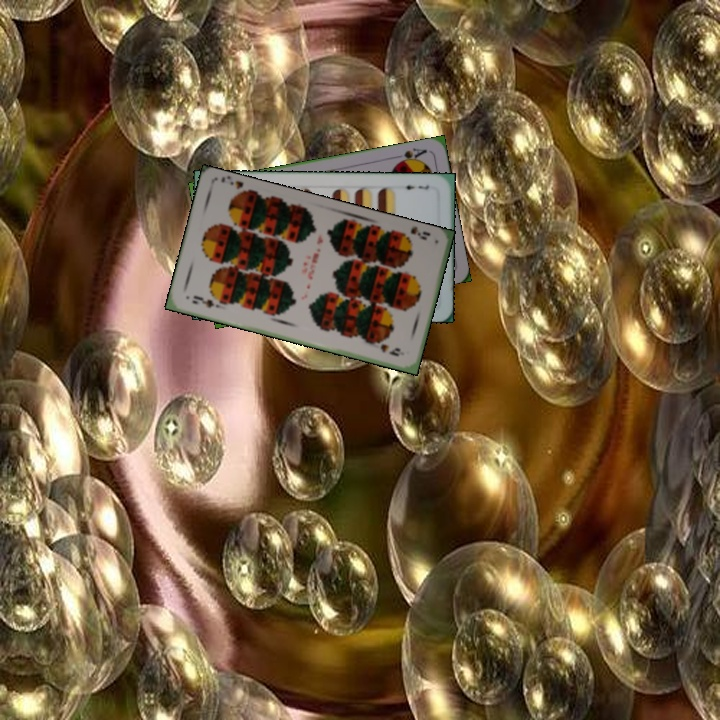E7: (398, 181, 432, 192)
S9: (395, 223, 433, 243), (188, 291, 217, 311)
SA: (392, 144, 429, 167)
